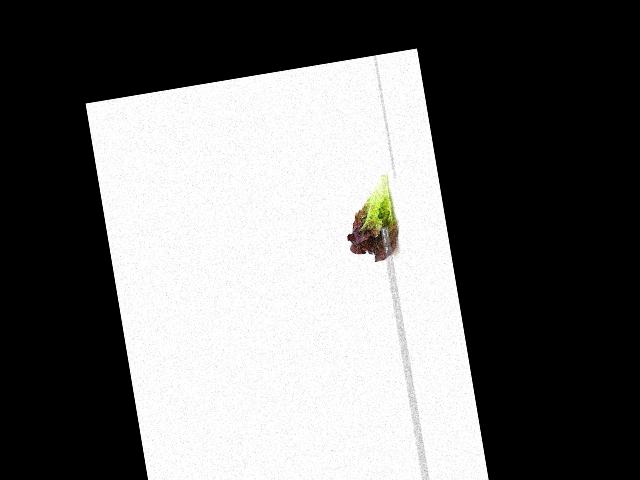lettuce: (336, 169, 407, 267)
